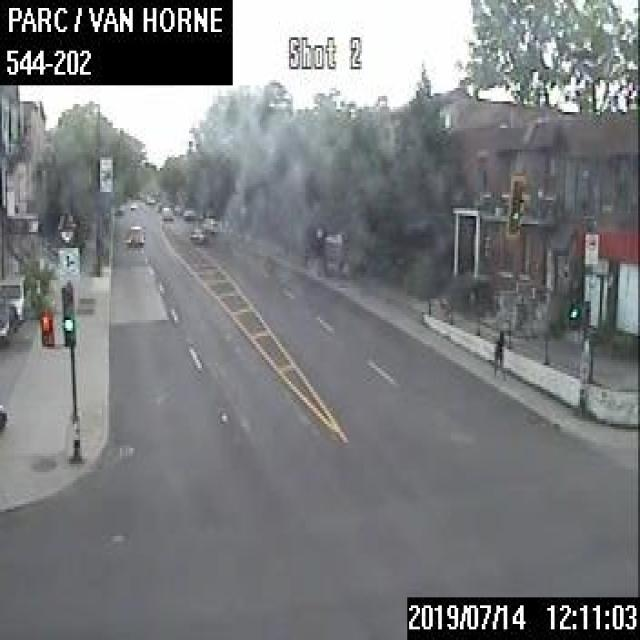pedestrian: (489, 331, 504, 376)
vehicle: (0, 272, 31, 320), (0, 302, 16, 342), (125, 222, 144, 242), (188, 226, 204, 242), (204, 218, 218, 232), (160, 205, 172, 218), (182, 208, 195, 218), (0, 402, 5, 426), (129, 202, 136, 208)
